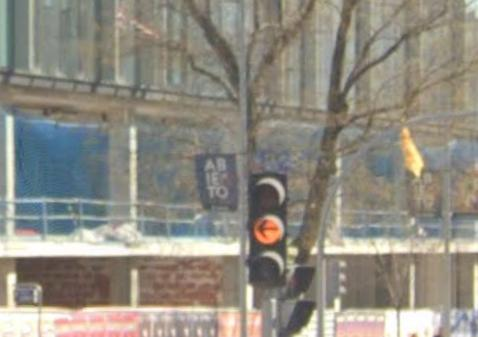yellow_light: (247, 171, 289, 289)
